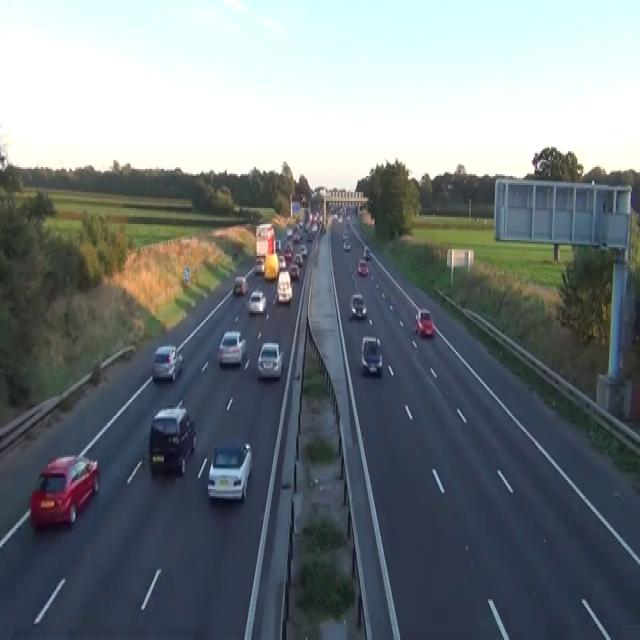Car: (30, 453, 99, 528), (148, 405, 196, 475), (207, 441, 252, 501), (152, 345, 182, 382), (257, 341, 284, 379), (217, 331, 246, 366), (360, 334, 382, 375), (415, 308, 434, 336), (277, 270, 292, 304), (248, 290, 266, 314), (350, 292, 366, 318), (256, 222, 274, 238), (233, 276, 248, 295), (357, 258, 369, 276), (253, 258, 264, 274), (288, 263, 299, 279), (283, 242, 292, 260), (293, 252, 303, 266), (278, 254, 286, 270), (183, 266, 190, 284), (363, 246, 371, 260), (300, 244, 307, 258), (274, 238, 281, 251), (343, 240, 351, 251), (293, 231, 301, 242), (300, 192, 306, 206), (342, 231, 349, 240), (286, 228, 292, 238), (307, 233, 313, 242), (232, 250, 237, 260), (321, 224, 326, 233), (346, 213, 350, 224), (298, 220, 303, 228), (337, 214, 342, 222), (333, 213, 337, 219)
Truck: (254, 222, 275, 274)
